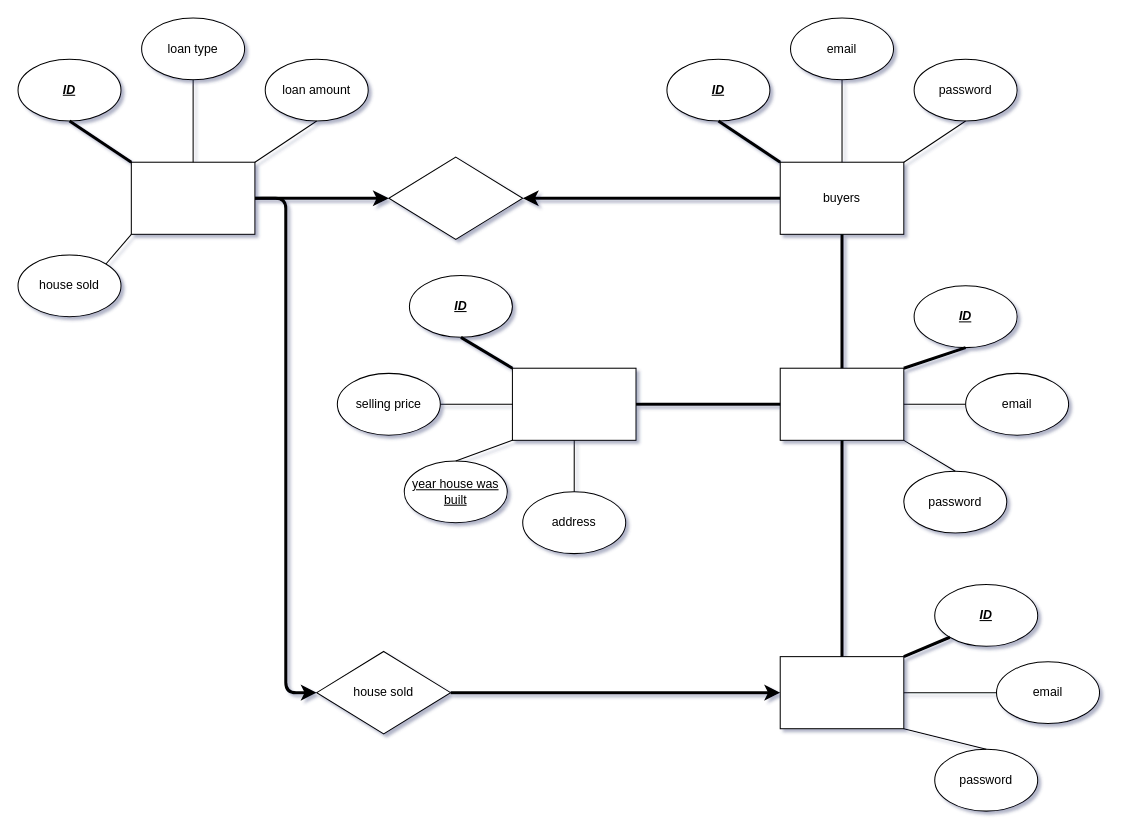
The diagram is 1124 pixels wide and 835 high, and some of its shapes have lost their labels. Each missing label, with the centre of its shape:
"bank" belongs at (192,197).
"bought house" belongs at (455,197).
"house" belongs at (573,403).
"real estate agent" belongs at (841,403).
"sellers" belongs at (841,692).
